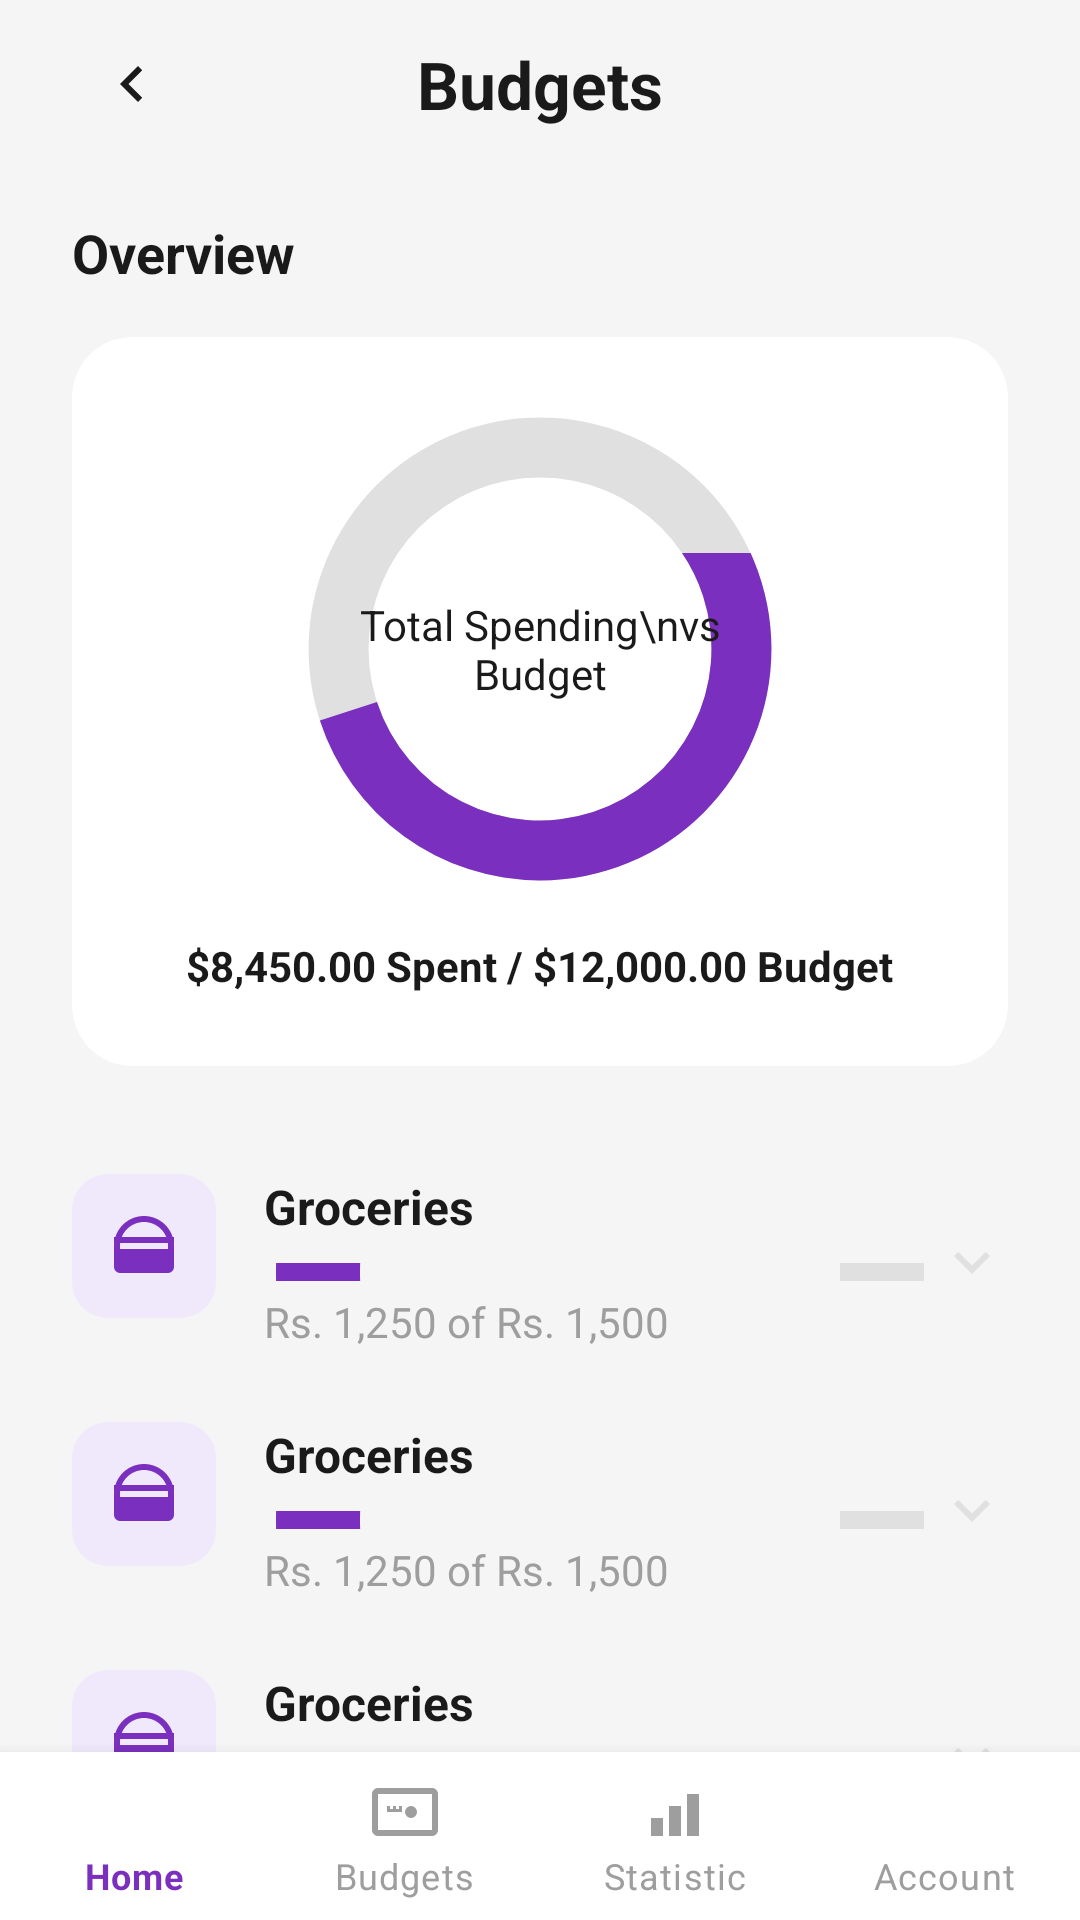

Icons on this 1080x1920 Android screen, each with its box as {"left": x1, "top": y1, "right": x2, "bottom": y2}:
Go back: {"left": 120, "top": 66, "right": 142, "bottom": 102}
